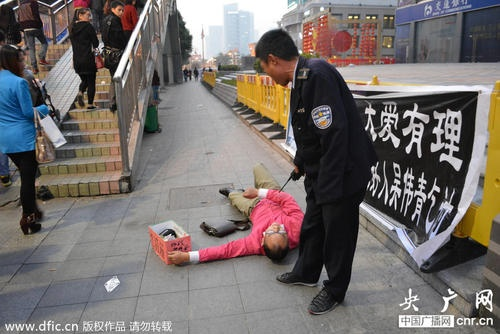falling: (140, 158, 319, 277)
